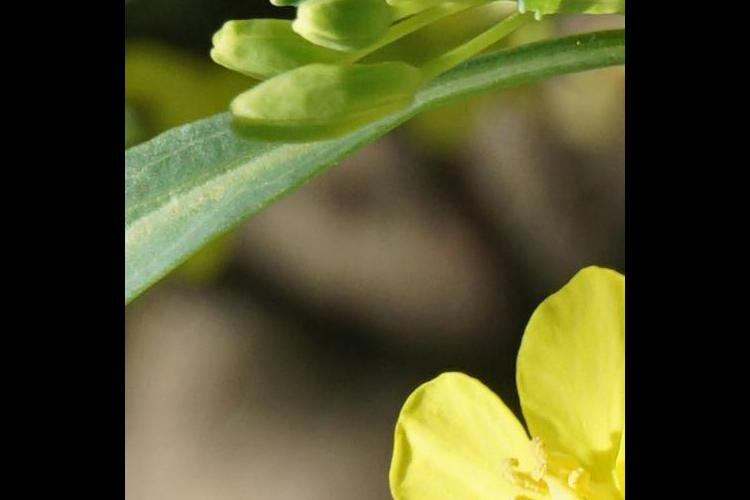bud: (235, 73, 435, 148), (218, 21, 354, 81), (303, 1, 387, 49)
yellow: (381, 292, 623, 500)
